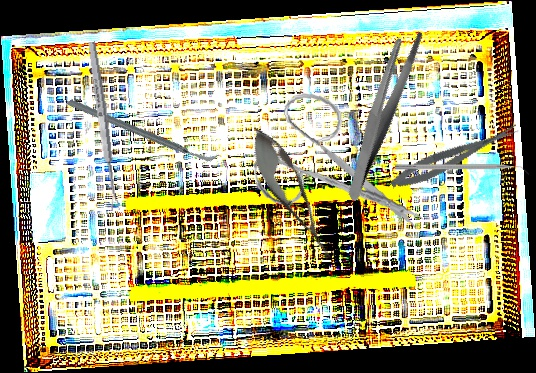Chopper: (65, 51, 220, 208), (395, 164, 529, 177)
Dressing Forceps: (306, 22, 458, 204)
Iris Scissors: (245, 80, 426, 250)
Micro Scissor: (237, 118, 347, 270), (387, 119, 523, 195)
Surgical Spoon: (86, 41, 121, 211)
